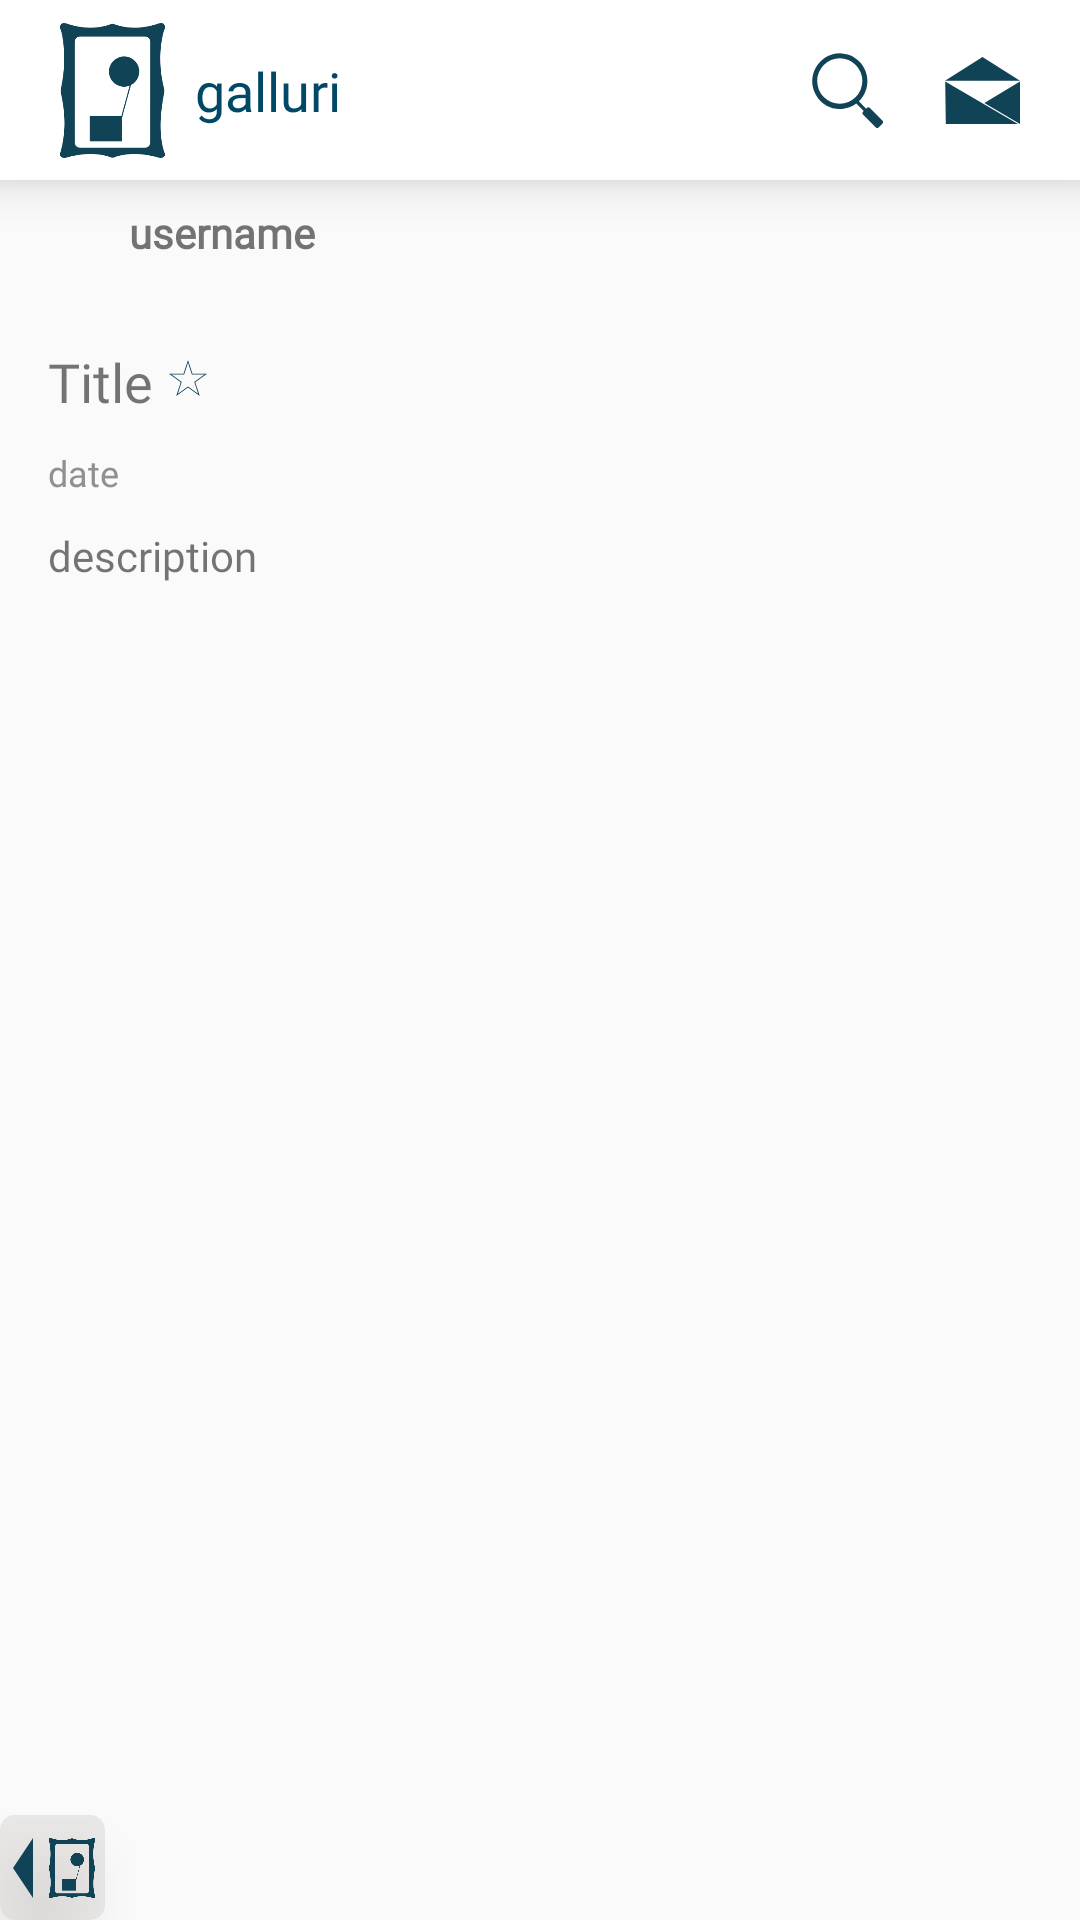

Locate icon controls on the screen. Image size 1080w x 1920h, boxes as bbox=(x1, y1, x2, y2).
left arrow: bbox=(13, 1838, 33, 1898)
message icon: bbox=(945, 57, 1020, 124)
post star: bbox=(169, 360, 207, 396)
search icon: bbox=(812, 53, 883, 128)
